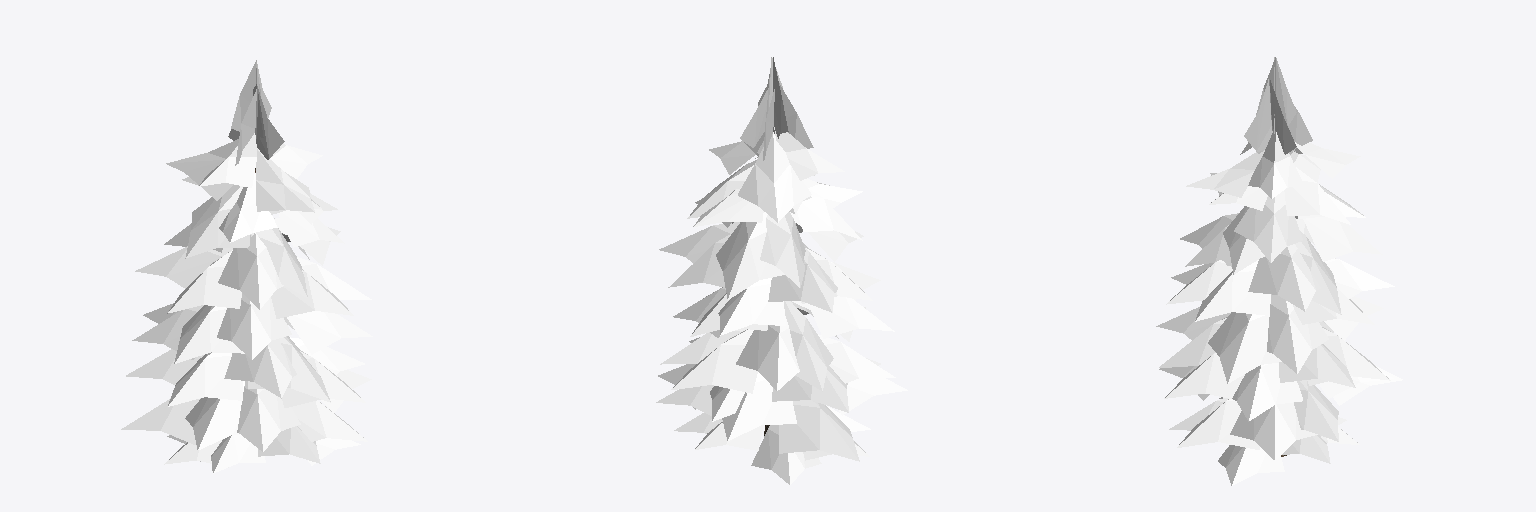
3 views of the same model, side by side, from view 1: azimuth 30°, elevation 25°; view 2: azimuth 150°, elevation 25°; view 3: azimuth 270°, elevation 25° (orthographic).
Visible parts, largest first — view 1: cedar_LOD_1500_Cylinder; view 2: cedar_LOD_1500_Cylinder; view 3: cedar_LOD_1500_Cylinder.
Boxes of the visible parts, x1=… form: cedar_LOD_1500_Cylinder: x1=121, y1=60, x2=372, y2=473; cedar_LOD_1500_Cylinder: x1=656, y1=57, x2=907, y2=484; cedar_LOD_1500_Cylinder: x1=1156, y1=57, x2=1402, y2=485.
Size of the model in its own units: 7.45 by 12.45 by 7.04.
Materials: 2 (1 with a texture image).